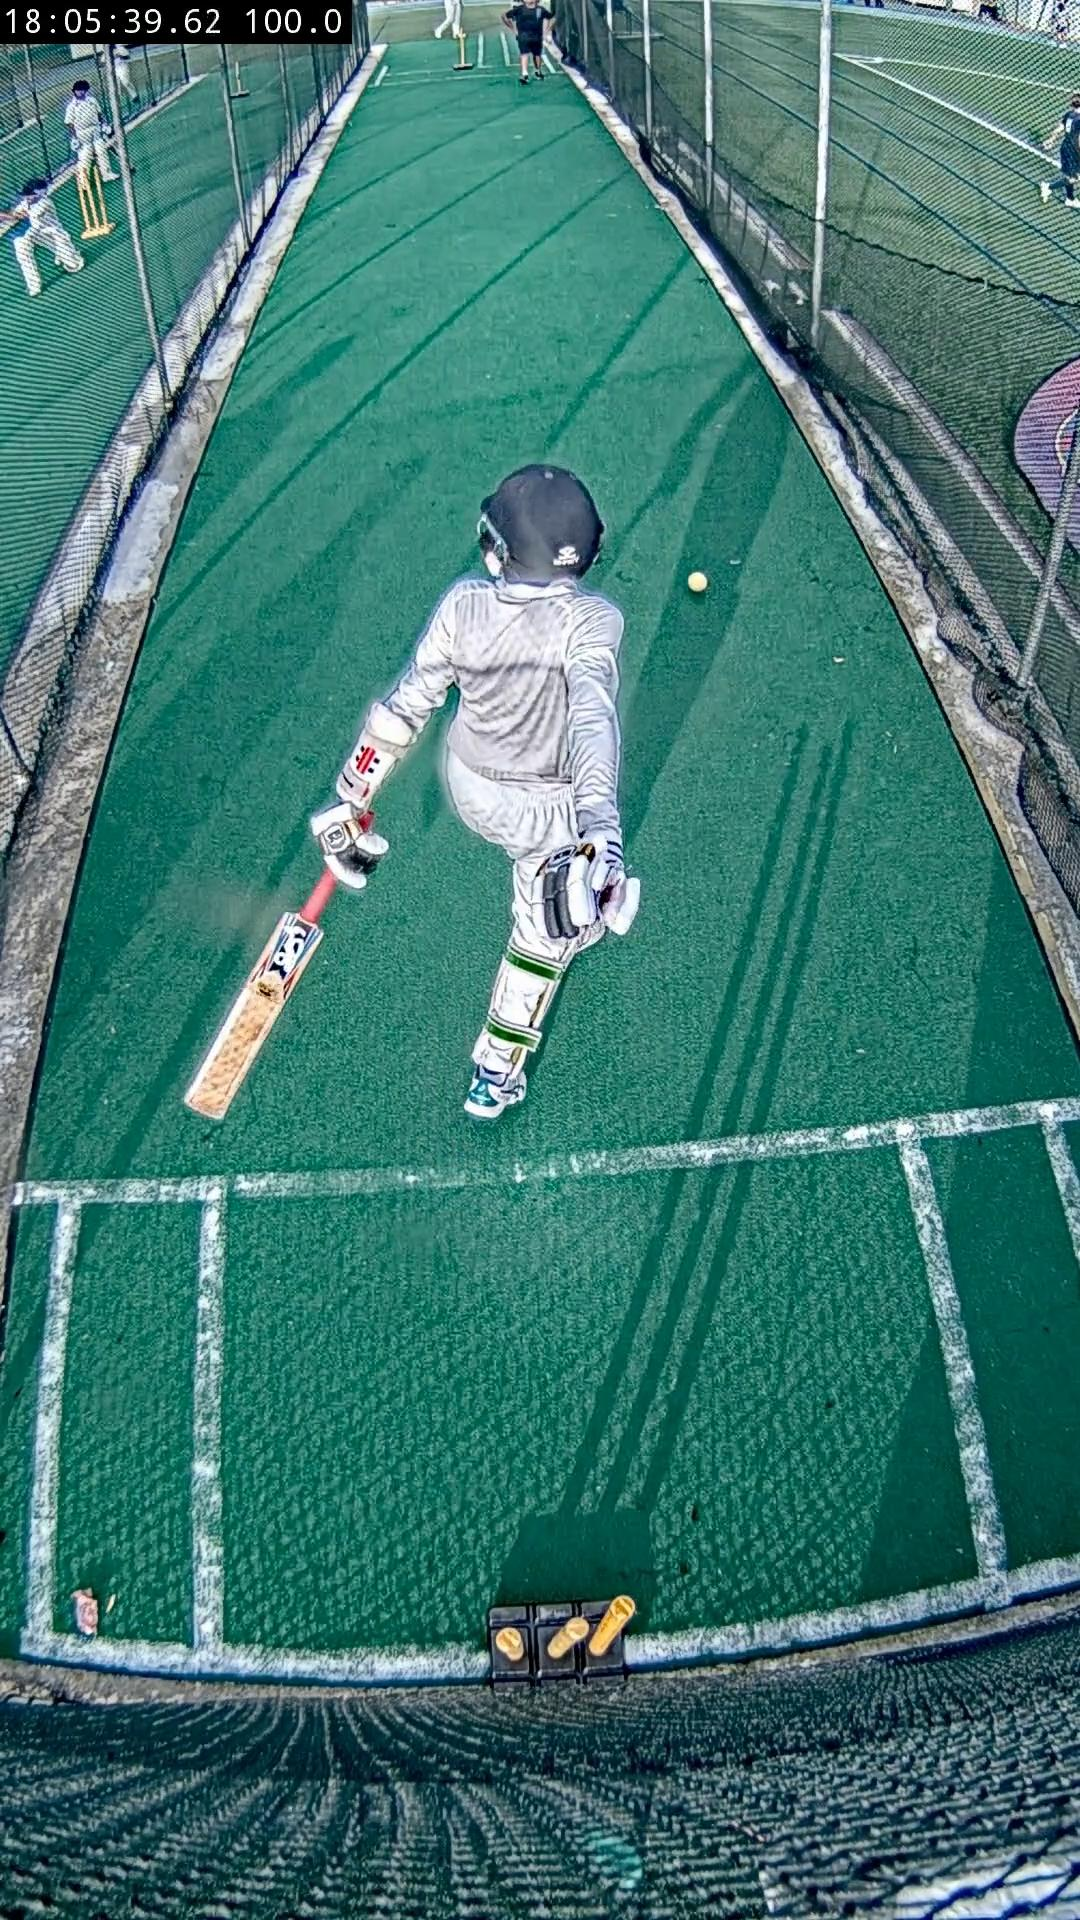ball: (686, 570, 708, 592)
bat: (183, 911, 323, 1117)
gloves: (541, 844, 641, 942), (307, 799, 390, 889)
helmet: (484, 465, 604, 578)
stumps: (488, 1597, 637, 1681)
